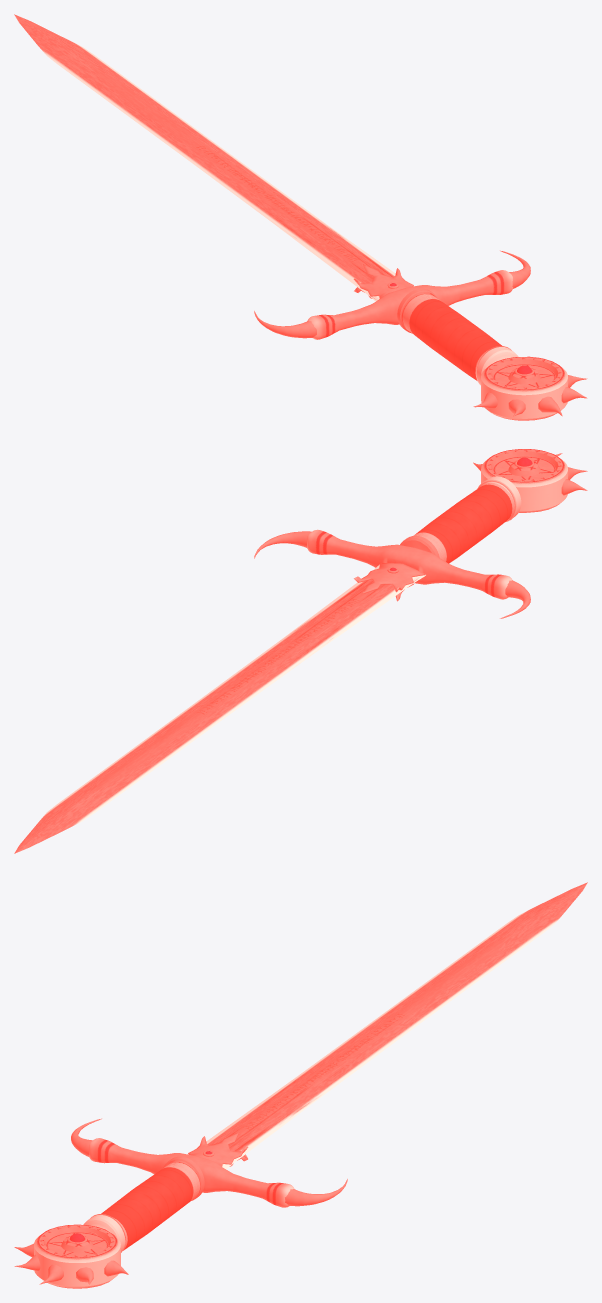
Rendered from KnightSword vamp v6 LP_LOD1.glb.
3 renders of one model, top to bottom at view 1: azimuth 30°, elevation 25°; view 2: azimuth 150°, elevation 25°; view 3: azimuth 330°, elevation 25°, orthographic.
Size of the model in its own units: 0.2776 by 0.0452 by 1.01.
Materials: 1 (1 with a texture image).
